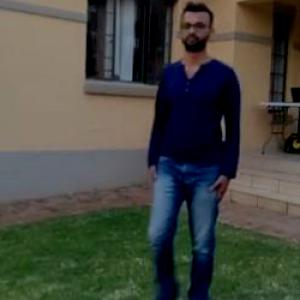follow: (151, 24, 233, 278)
